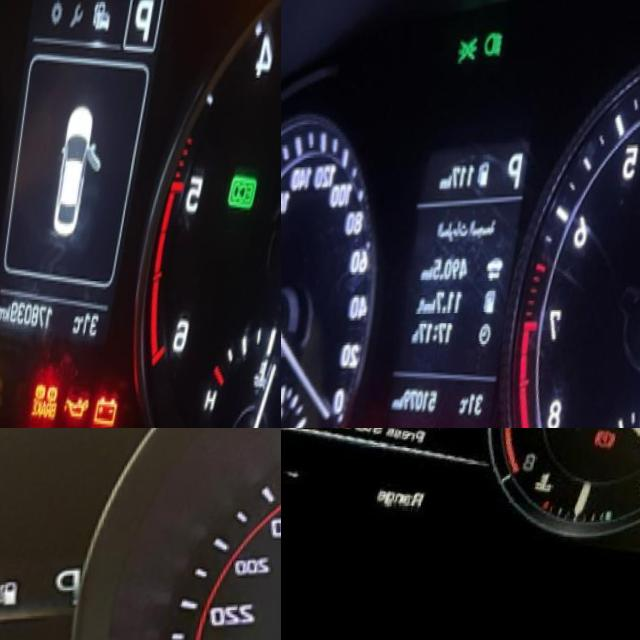Engine cooling system: (540, 472, 572, 506)
